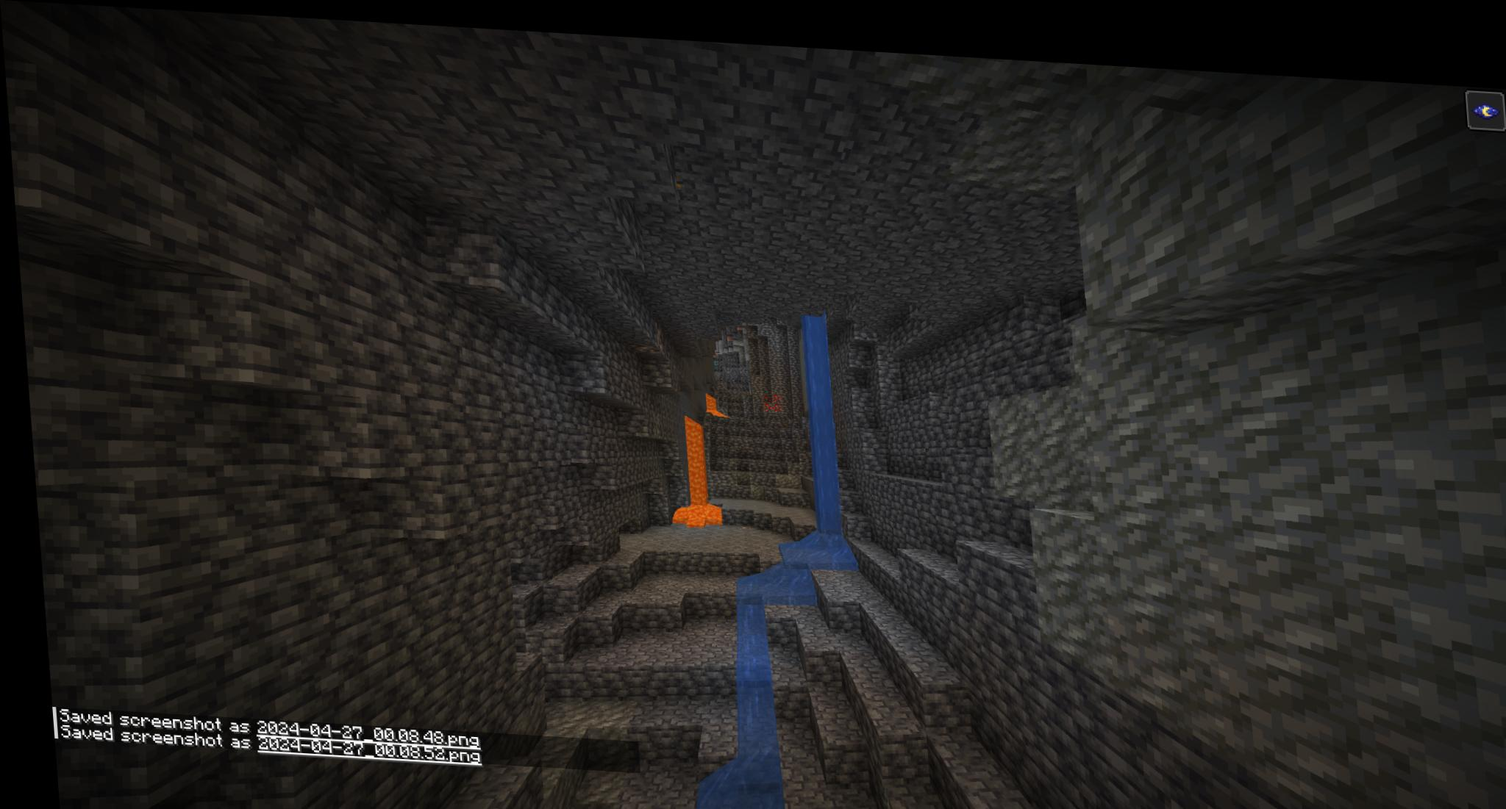iron ore: (628, 315, 662, 354)
redstone ore: (753, 381, 782, 412)
